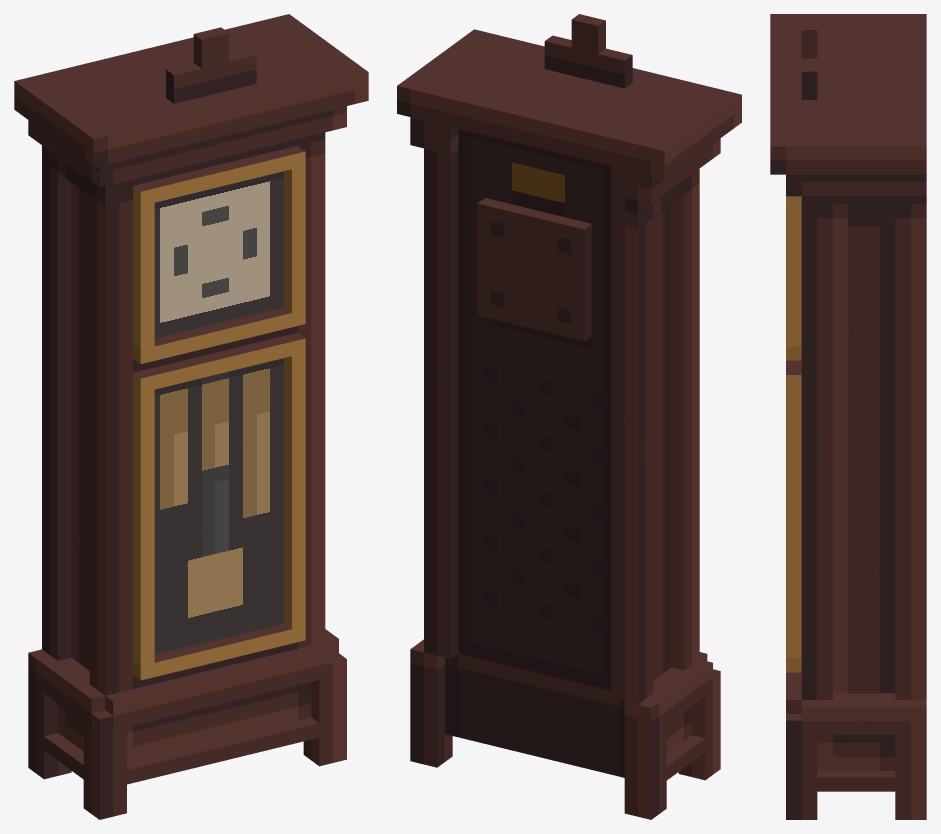
File: int_grandfatherao.fezao.glb
3 views of the same model, side by side, from view 1: azimuth 30°, elevation 25°; view 2: azimuth 150°, elevation 25°; view 3: azimuth 270°, elevation 25° (orthographic). The views are drawn at different scales.
Parts seen in each view (by area): view 1: INT_GRANDFATHERAO; view 2: INT_GRANDFATHERAO; view 3: INT_GRANDFATHERAO.
Boxes of the visible parts, x1,y1,x2,y2 form: INT_GRANDFATHERAO: (14,14,368,819); INT_GRANDFATHERAO: (397,14,741,819); INT_GRANDFATHERAO: (770,14,926,819).
Size of the model in its own units: 1.25 by 3.25 by 0.625.
Materials: 1 (1 with a texture image).
